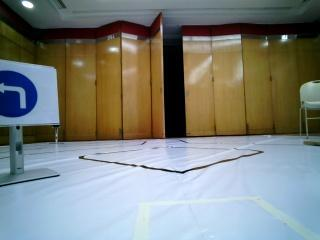left: (0, 67, 55, 123)
